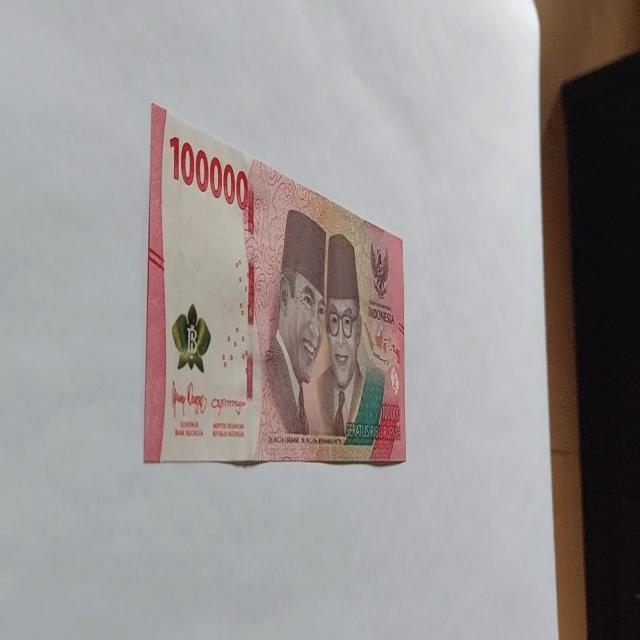seratus ribu rupiah: (142, 101, 408, 467)
